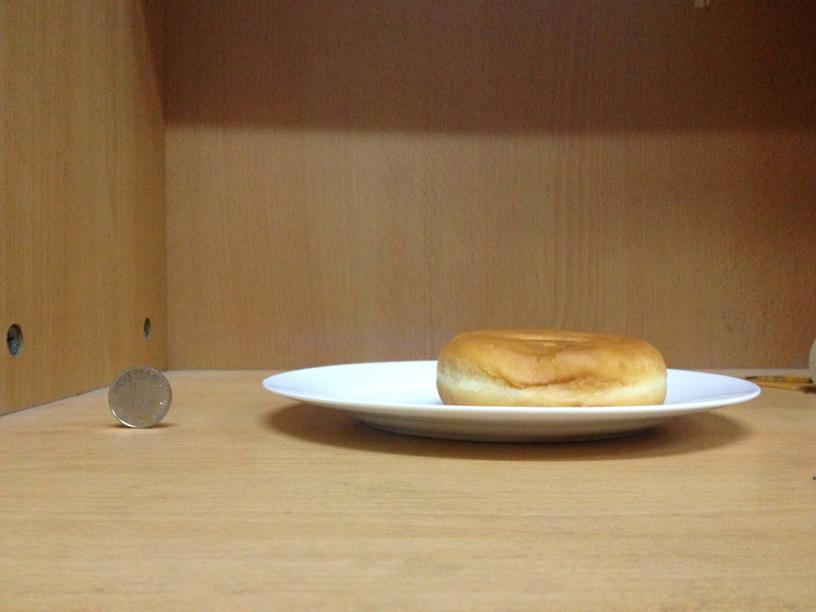coin: (105, 366, 173, 430)
doughnut: (433, 327, 668, 407)
